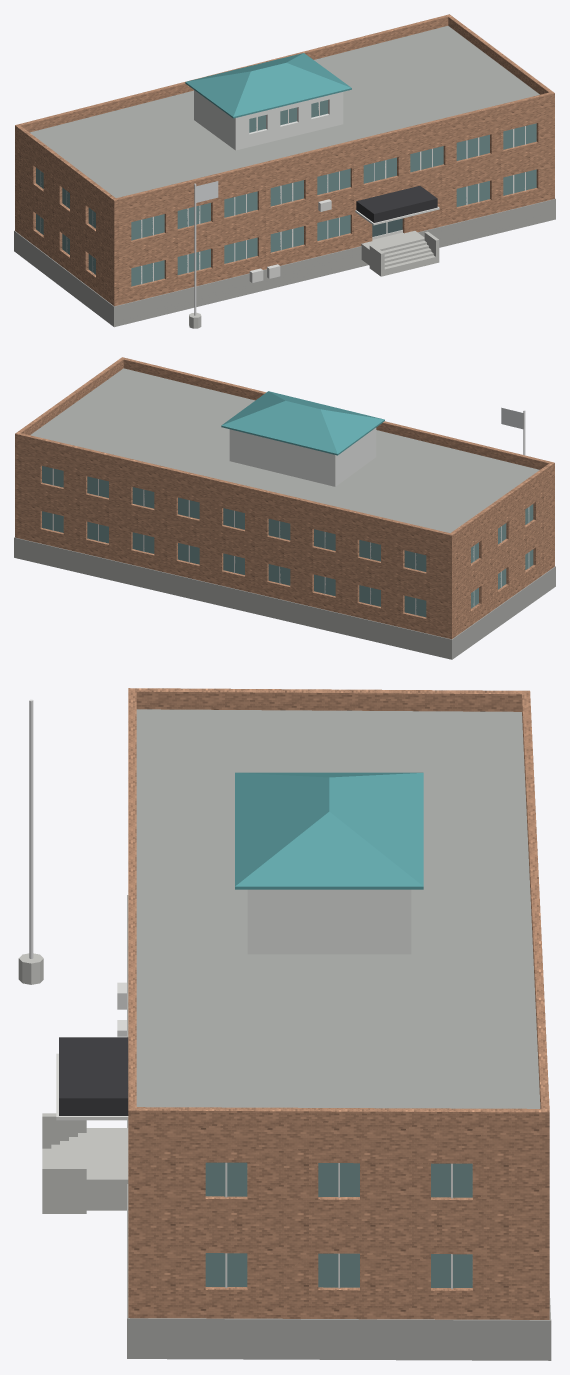
The picture shows the model from 3 angles, top to bottom: view 1: azimuth 30°, elevation 25°; view 2: azimuth 150°, elevation 25°; view 3: azimuth 270°, elevation 25°; orthographic projection. The views are drawn at different scales.
Visible parts, largest first — view 1: C13 orange red brick, C13 grey flat roof, C13 pale green window glass, C13 grey concrete plinth, C13 teal hipped penthouse roof, C13 white penthouse walls, C13 black entrance sign box, C13 white window frames, C13 granite steps and cheek walls, C13 white air conditioner units, C13 front externalStair tread 5, C13 flag cloth (+1 smaller); view 2: C13 orange red brick, C13 grey flat roof, C13 grey concrete plinth, C13 pale green window glass, C13 teal hipped penthouse roof, C13 white penthouse walls, C13 white window frames, C13 flag cloth; view 3: C13 grey flat roof, C13 orange red brick, C13 teal hipped penthouse roof, C13 grey concrete plinth, C13 white penthouse walls, C13 pale green window glass, C13 granite steps and cheek walls, C13 black entrance sign box, C13 white flag pole, C13 white window frames.
Part boxes in pixels (x1,y1,x2,y2): C13 orange red brick: [15, 14, 554, 306]; C13 grey flat roof: [29, 26, 539, 197]; C13 pale green window glass: [36, 100, 536, 286]; C13 grey concrete plinth: [14, 198, 555, 327]; C13 teal hipped penthouse roof: [185, 53, 351, 118]; C13 white penthouse walls: [194, 90, 343, 150]; C13 black entrance sign box: [356, 186, 437, 222]; C13 white window frames: [40, 102, 525, 284]; C13 granite steps and cheek walls: [189, 231, 439, 328]; C13 white air conditioner units: [249, 199, 331, 282]; C13 front externalStair tread 5: [384, 255, 435, 275]; C13 flag cloth: [196, 181, 218, 202]; C13 orange red brick: [15, 357, 554, 639]; C13 grey flat roof: [30, 368, 539, 532]; C13 grey concrete plinth: [14, 537, 555, 659]; C13 pale green window glass: [42, 466, 533, 617]; C13 teal hipped penthouse roof: [221, 391, 384, 455]; C13 white penthouse walls: [229, 428, 376, 486]; C13 white window frames: [52, 468, 529, 615]; C13 flag cloth: [501, 407, 523, 429]; C13 grey flat roof: [136, 709, 540, 1108]; C13 orange red brick: [128, 688, 549, 1319]; C13 teal hipped penthouse roof: [235, 772, 423, 889]; C13 grey concrete plinth: [127, 895, 551, 1360]; C13 white penthouse walls: [247, 889, 411, 954]; C13 pale green window glass: [205, 1162, 472, 1287]; C13 granite steps and cheek walls: [18, 953, 128, 1213]; C13 black entrance sign box: [59, 1037, 128, 1115]; C13 white flag pole: [29, 699, 33, 958]; C13 white window frames: [56, 1053, 452, 1288].
Size of the model in its own units: 36.27 by 13.45 by 19.18.
13 materials, 1 textured.
